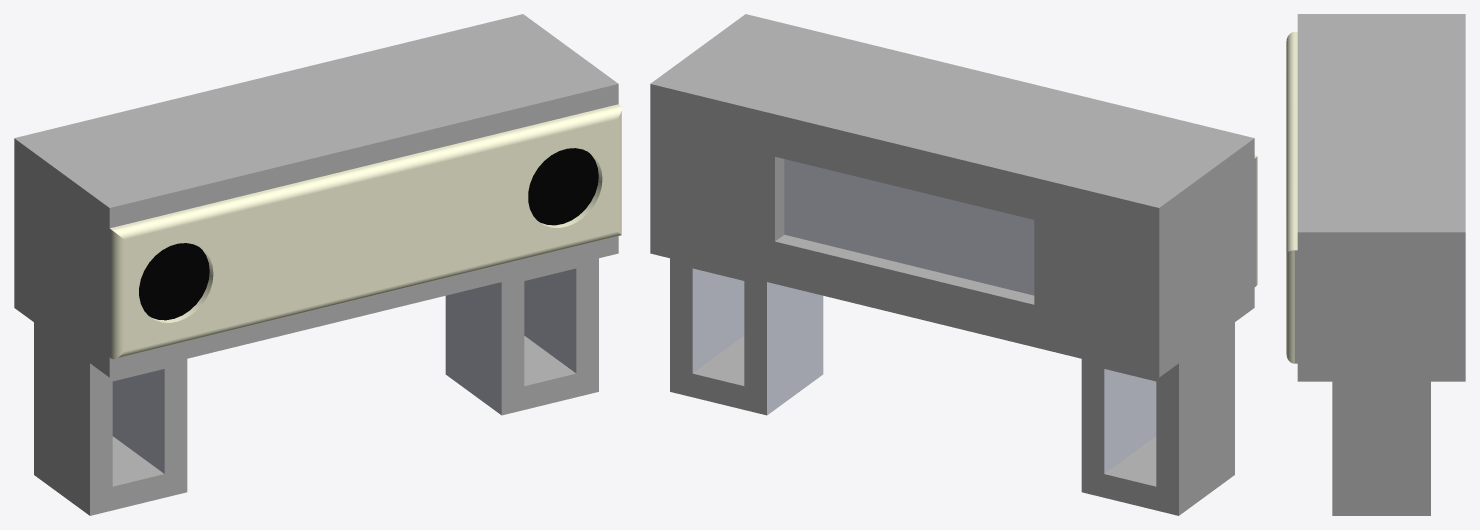
Rendered from bb2_stereo_cam.dae.
3 views of the same model, side by side, from view 1: azimuth 30°, elevation 25°; view 2: azimuth 150°, elevation 25°; view 3: azimuth 270°, elevation 25° (orthographic). The views are drawn at different scales.
Parts seen in each view (by area): view 1: mesh_1, mesh_3, mesh_2, mesh_4; view 2: mesh_1, mesh_2; view 3: mesh_1, mesh_3.
Boxes of the visible parts, x1=… form: mesh_1: x1=14, y1=14, x2=618, y2=515; mesh_3: x1=110, y1=104, x2=621, y2=359; mesh_2: x1=112, y1=268, x2=576, y2=473; mesh_4: x1=139, y1=148, x2=598, y2=320; mesh_1: x1=650, y1=14, x2=1256, y2=515; mesh_2: x1=692, y1=159, x2=1156, y2=473; mesh_1: x1=1294, y1=14, x2=1465, y2=515; mesh_3: x1=1286, y1=32, x2=1297, y2=363.
Bounding box in the file's own units: 0.157 × 0.0545 × 0.095.
